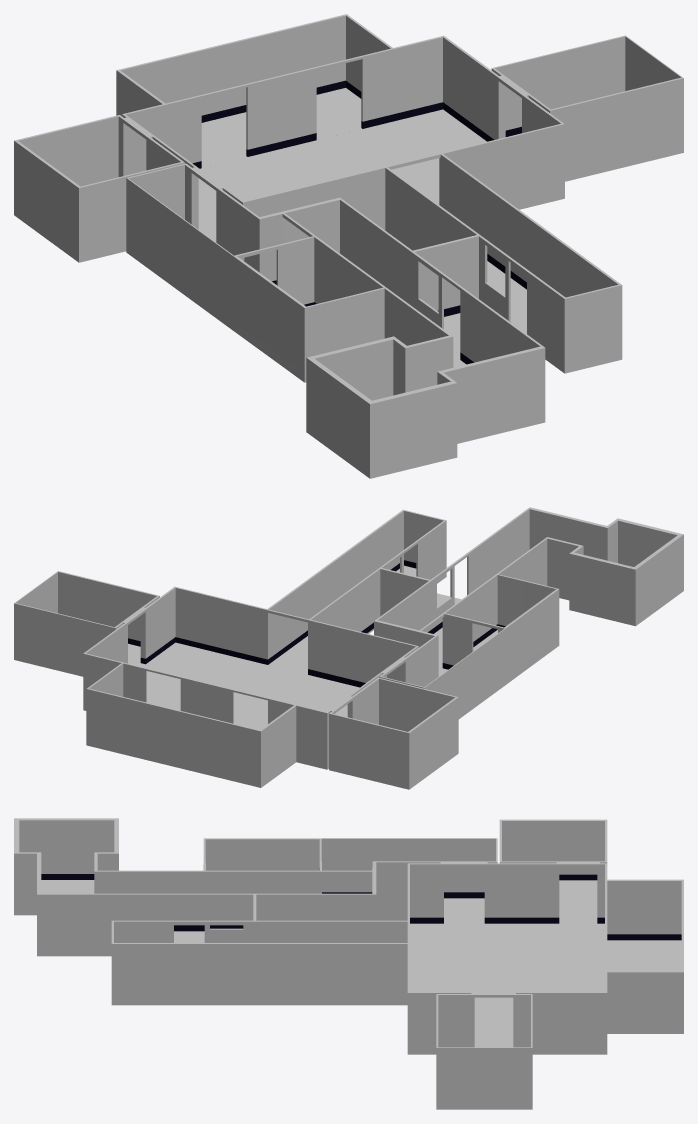
The model's file is Toy Store.obj.
The picture shows the model from 3 angles, top to bottom: view 1: azimuth 30°, elevation 25°; view 2: azimuth 150°, elevation 25°; view 3: azimuth 270°, elevation 25°; orthographic projection. The views are drawn at different scales.
Visible parts, largest first — view 1: Environment_Cube; view 2: Environment_Cube; view 3: Environment_Cube.
Part boxes in pixels (bbox=[...]): Environment_Cube: bbox=[14, 14, 683, 478]; Environment_Cube: bbox=[14, 507, 683, 789]; Environment_Cube: bbox=[14, 818, 683, 1109].
Size of the model in its own units: 18.64 by 2.33 by 22.99.
